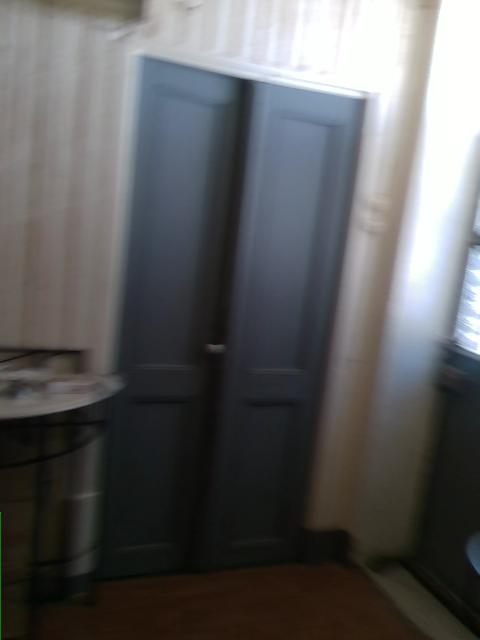closed_door: (88, 51, 371, 580)
